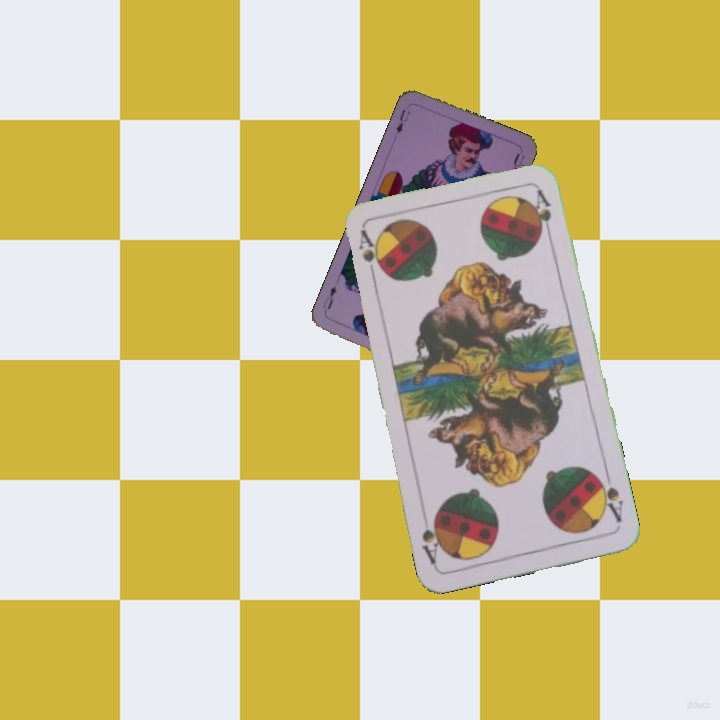EU: (392, 105, 413, 136)
SA: (592, 469, 626, 524), (355, 226, 384, 285)
